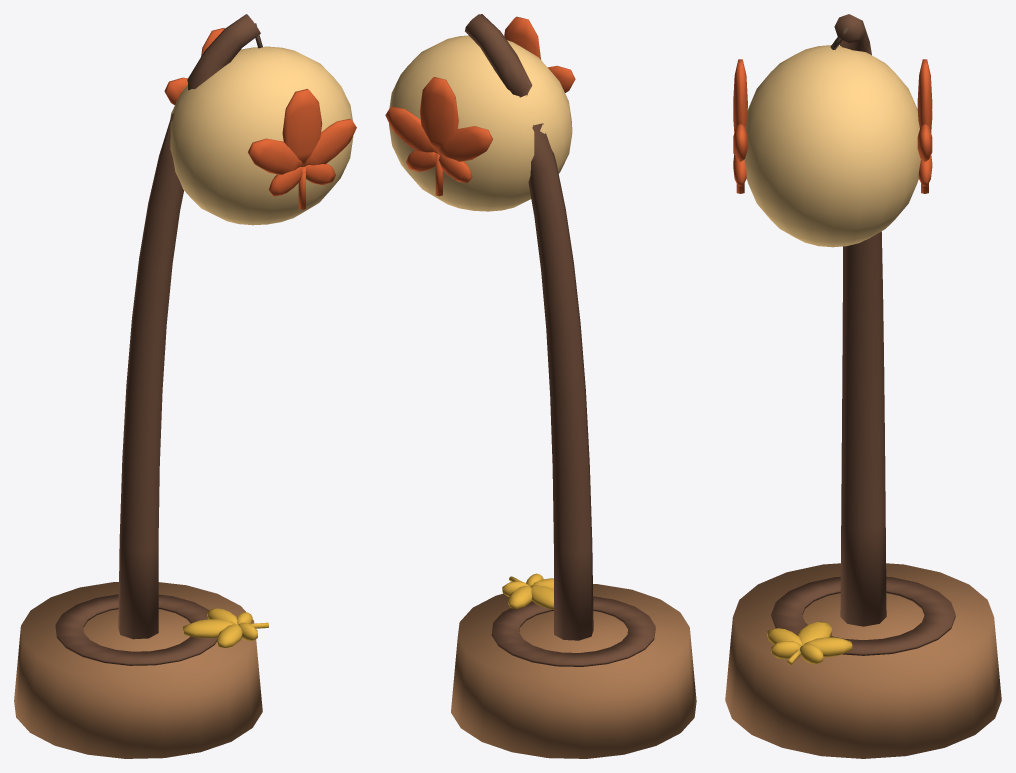
Rendered from maple-lamp.glb.
3 renders of one model, left to right at view 1: azimuth 30°, elevation 25°; view 2: azimuth 150°, elevation 25°; view 3: azimuth 270°, elevation 25°, orthographic. The views are drawn at different scales.
Parts seen in each view (by area): view 1: lamp; view 2: lamp; view 3: lamp.
Boxes of the visible parts, x1=… form: lamp: x1=14, y1=14, x2=356, y2=758; lamp: x1=385, y1=14, x2=696, y2=758; lamp: x1=725, y1=14, x2=1001, y2=758.
Size of the model in its own units: 0.5 by 1.07 by 0.36.
